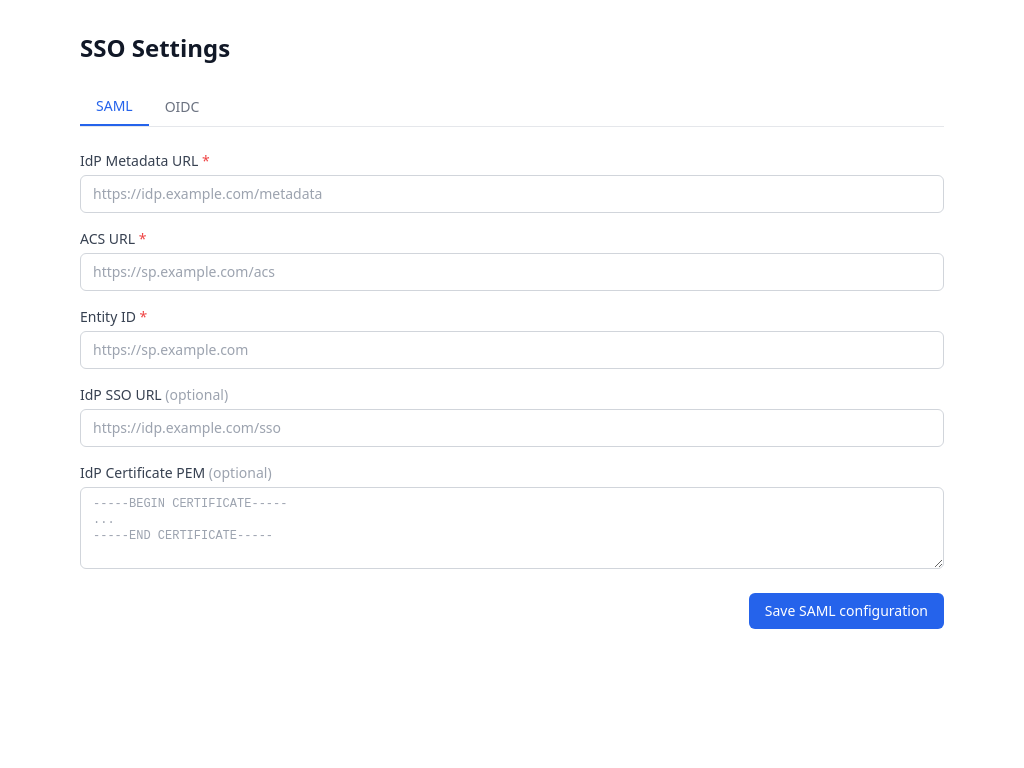
it: sso settings page › blocks submission client-side when a required SAML field is missing
Click the button with test id "saml-submit" at (846, 611), box [749, 593, 944, 629]
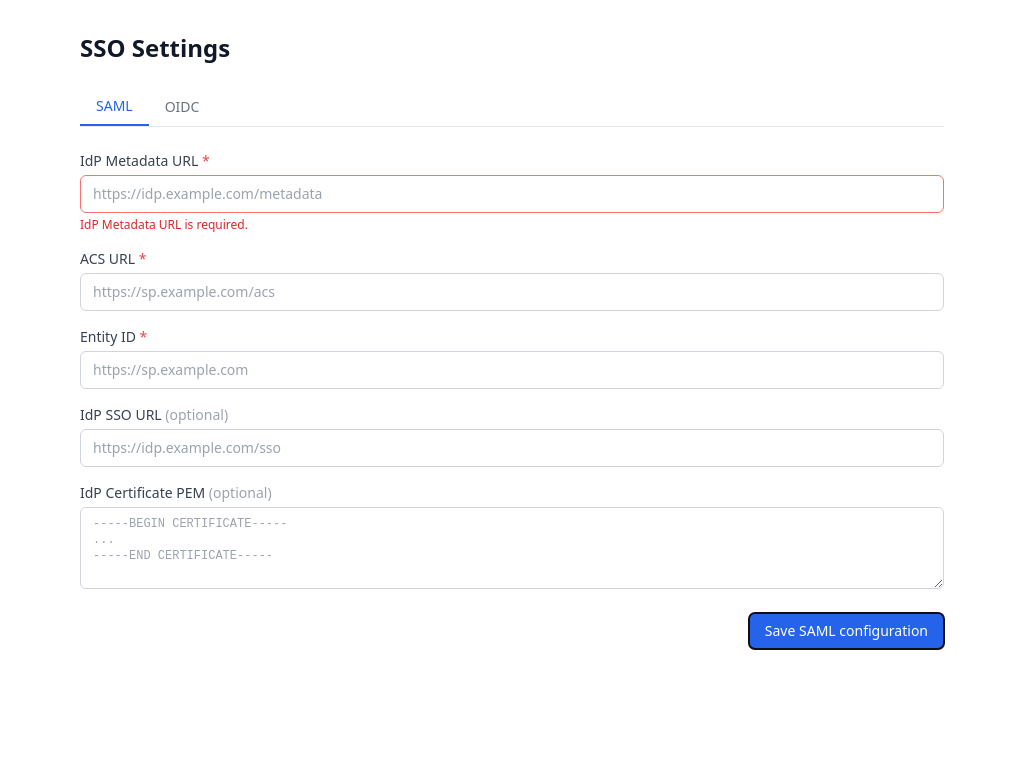
Now the message reads "IdP Metadata URL is required.", box [80, 216, 248, 233]
